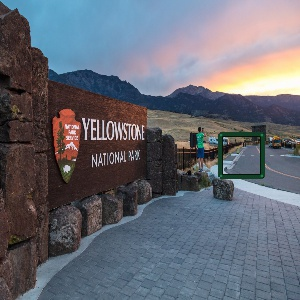square: (216, 131, 267, 181)
